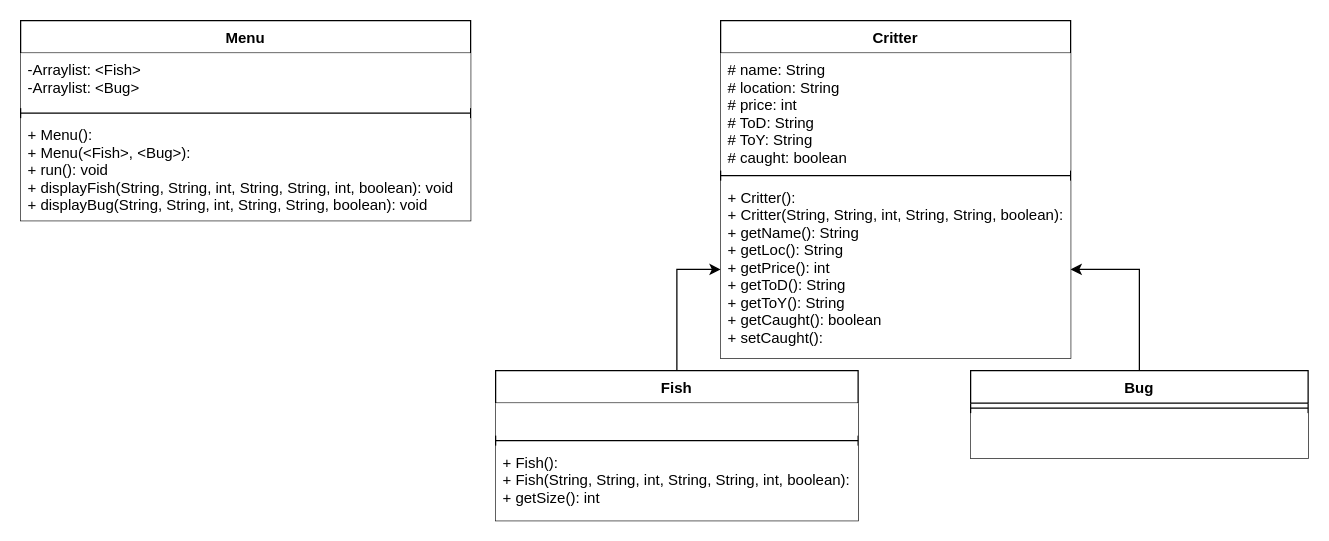
The diagram is 1329 pixels wide and 541 high, and some of its shapes have lost their labels. The shapes that lost their labels are listed below. From the top down, each one's centre as x and y in pixels, then its label:
At pixel 676 418: "- size: int".
At pixel 1139 435: "+ Bug(): + Bug(String, String, int, String, String, boolean):".
